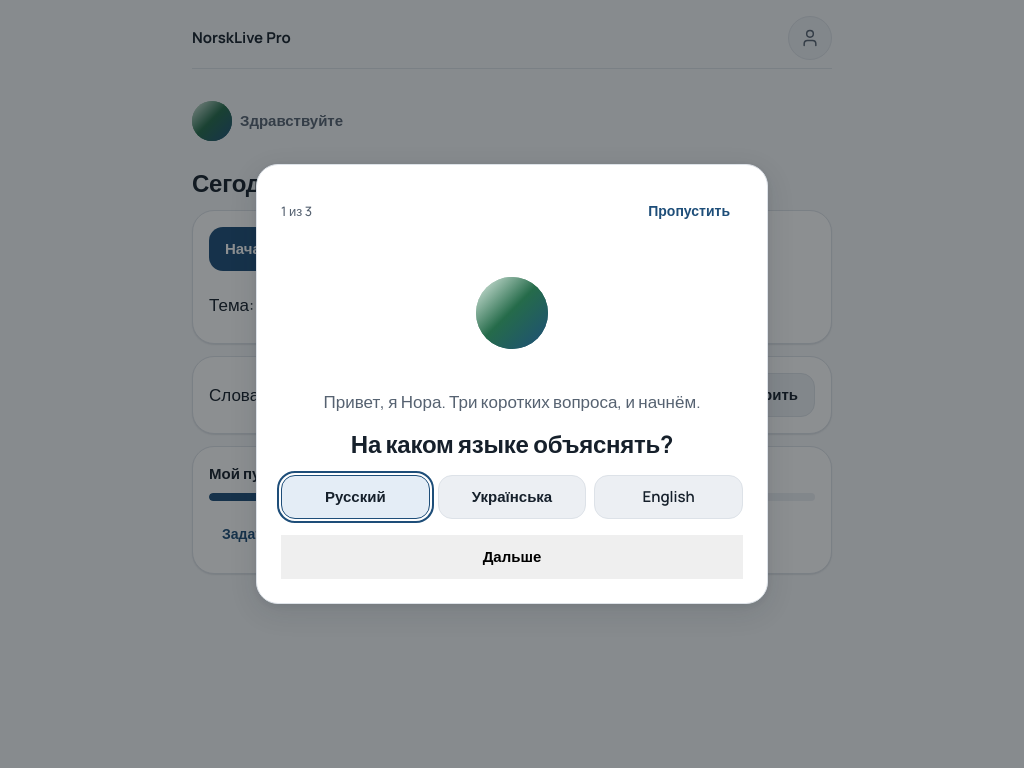
Test: PathHome & FirstRun Redesign (Issue #55) › shows FirstRun when not onboarded, and clicking «Пропустить» sets onboarded=true and shows home with resume card
Check: the text "1 из 3" is shown, box [281,202,312,220]
Check: the heading "На каком языке объяснять?" is shown, box [351,427,673,460]
Click the button "Пропустить" at (689, 211), box [635,189,743,233]
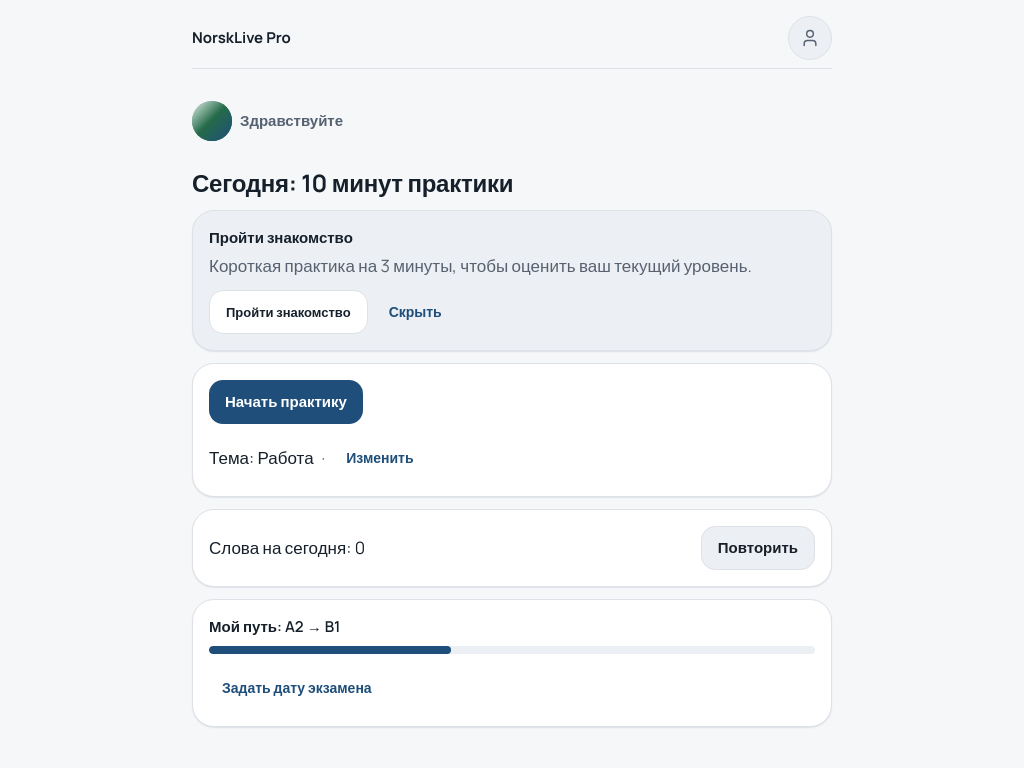
Check: the heading "Сегодня: 10 минут практики" is shown, box [192,166,513,199]
Check: the dialog is gone
Check: the element "Пройти знакомство" is shown, box [192,210,832,351]
Note: Clicking «Скрыть» dismisses resume card
Click the button "Скрыть" at (415, 312), box [376,290,455,334]
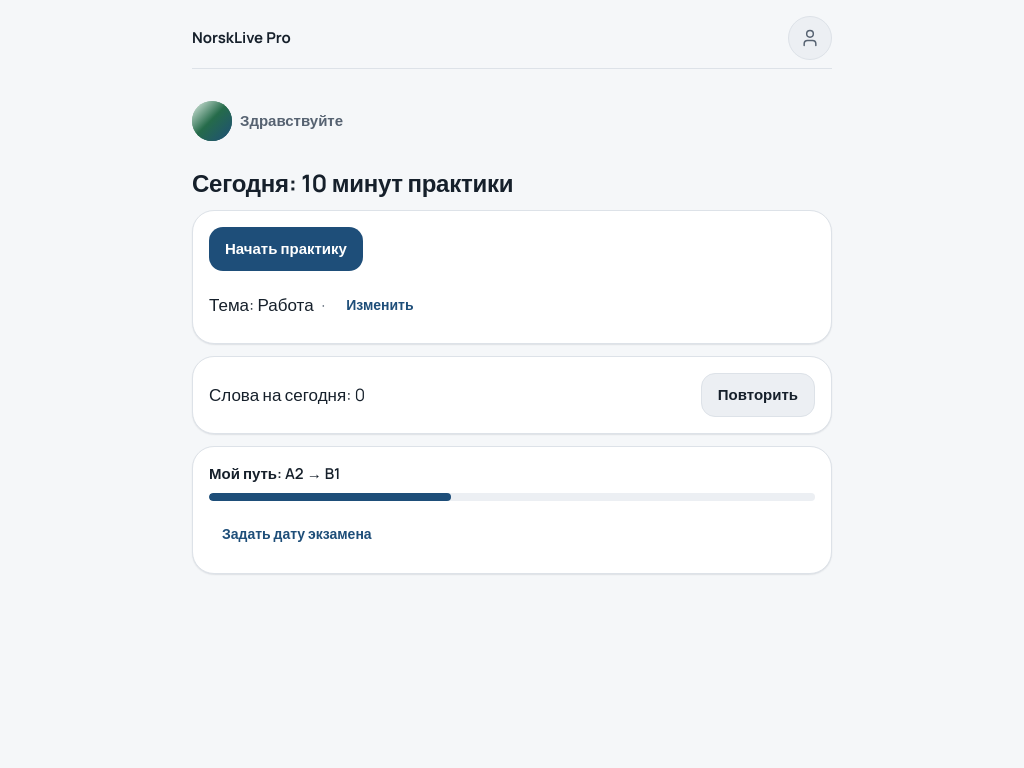
Check: the heading "Пройти знакомство" is gone
